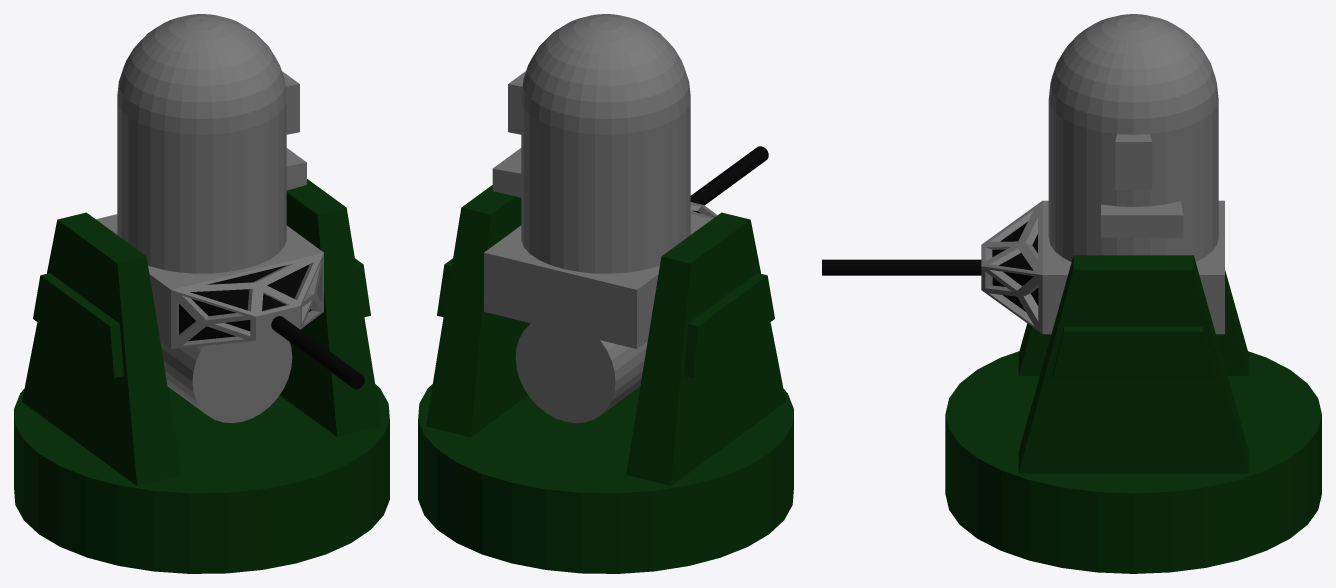
Rendered from turrets.glb.
3 renders of one model, left to right at view 1: azimuth 30°, elevation 25°; view 2: azimuth 150°, elevation 25°; view 3: azimuth 270°, elevation 25°, orthographic.
Parts seen in each view (by area): view 1: Cylinder.003, Cube.008, Sphere, Cube.007, Cylinder.004, Cylinder.002; view 2: Cylinder.003, Cube.008, Sphere, Cube.007, Cylinder.004, Cylinder.002; view 3: Cylinder.003, Cube.008, Sphere, Cube.007, Cylinder.002.
Boxes of the visible parts, <box> form: Cylinder.003: <box>14,384,389,573</box>; Cube.008: <box>22,179,381,485</box>; Sphere: <box>117,14,306,273</box>; Cube.007: <box>96,214,323,348</box>; Cylinder.004: <box>160,335,292,423</box>; Cylinder.002: <box>271,316,364,389</box>; Cylinder.003: <box>418,384,793,573</box>; Cube.008: <box>426,185,785,485</box>; Sphere: <box>492,14,690,273</box>; Cube.007: <box>484,202,717,348</box>; Cylinder.004: <box>515,323,647,423</box>; Cylinder.002: <box>690,146,768,205</box>; Cylinder.003: <box>945,351,1321,573</box>; Cube.008: <box>1018,255,1248,473</box>; Sphere: <box>1048,14,1218,261</box>; Cube.007: <box>981,200,1224,334</box>; Cylinder.002: <box>822,259,981,275</box>.
Size of the model in its own units: 1.21 by 1.68 by 1.61.
